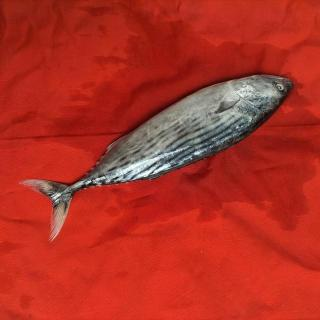Ikan: (28, 71, 300, 243)
